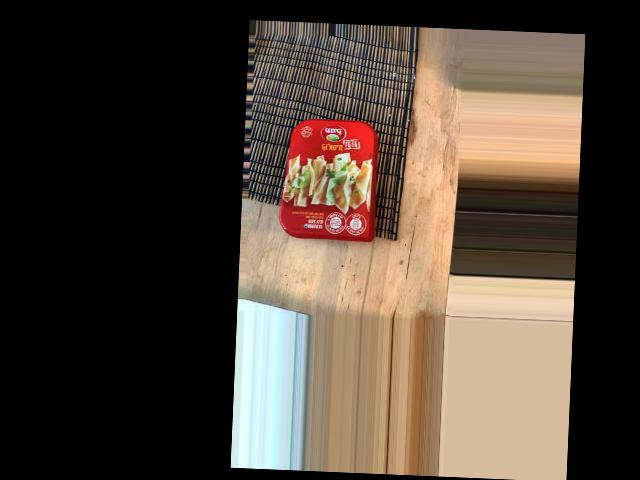cheese: (235, 70, 371, 163)
